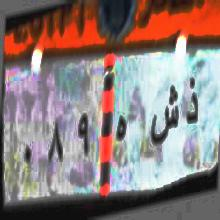0: (23, 137, 34, 174)
8: (45, 119, 67, 175)
9: (76, 104, 93, 167)
haa: (113, 99, 134, 152)
sheen: (152, 79, 180, 156)
zaal: (182, 74, 200, 136)
